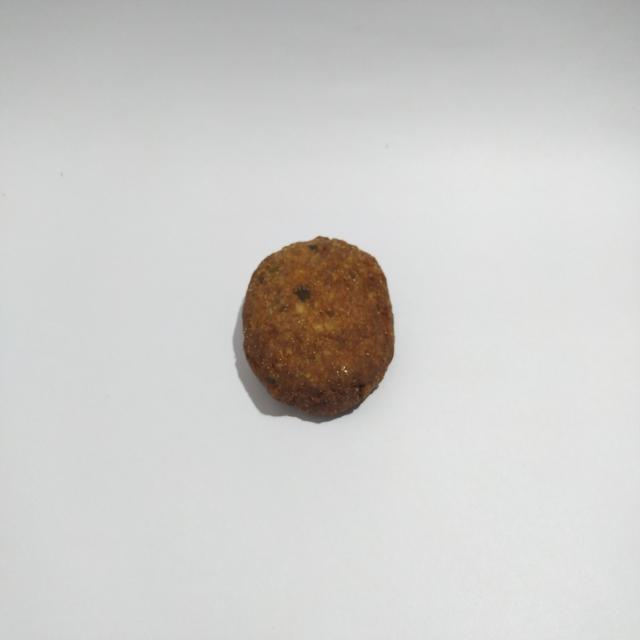Pajagua: (230, 226, 405, 431)
